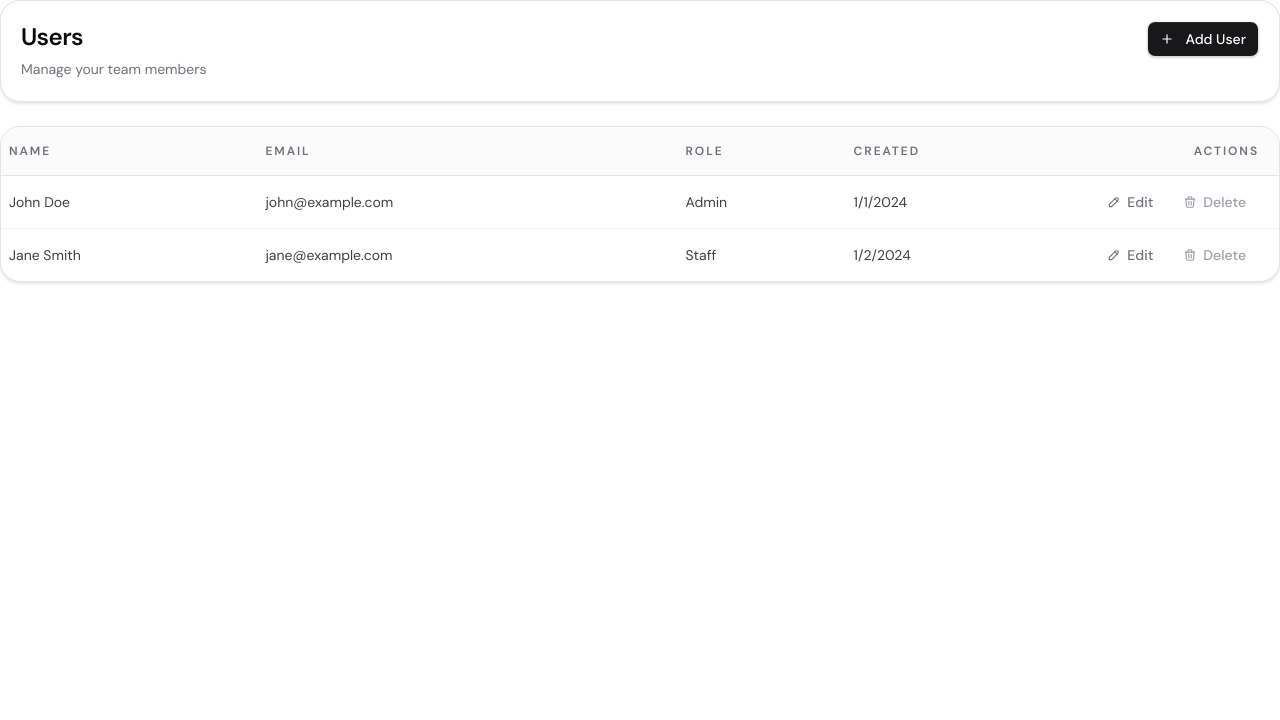
Test: UsersModule › opens edit dialog with user data pre-populated
The image size is (1280, 720).
# Safe: getAllByRole throws if empty, so index [0] is always defined
Click the button "Edit" in the row of "John Doe" at [1130, 202], box left=1094, top=186, right=1166, bottom=218
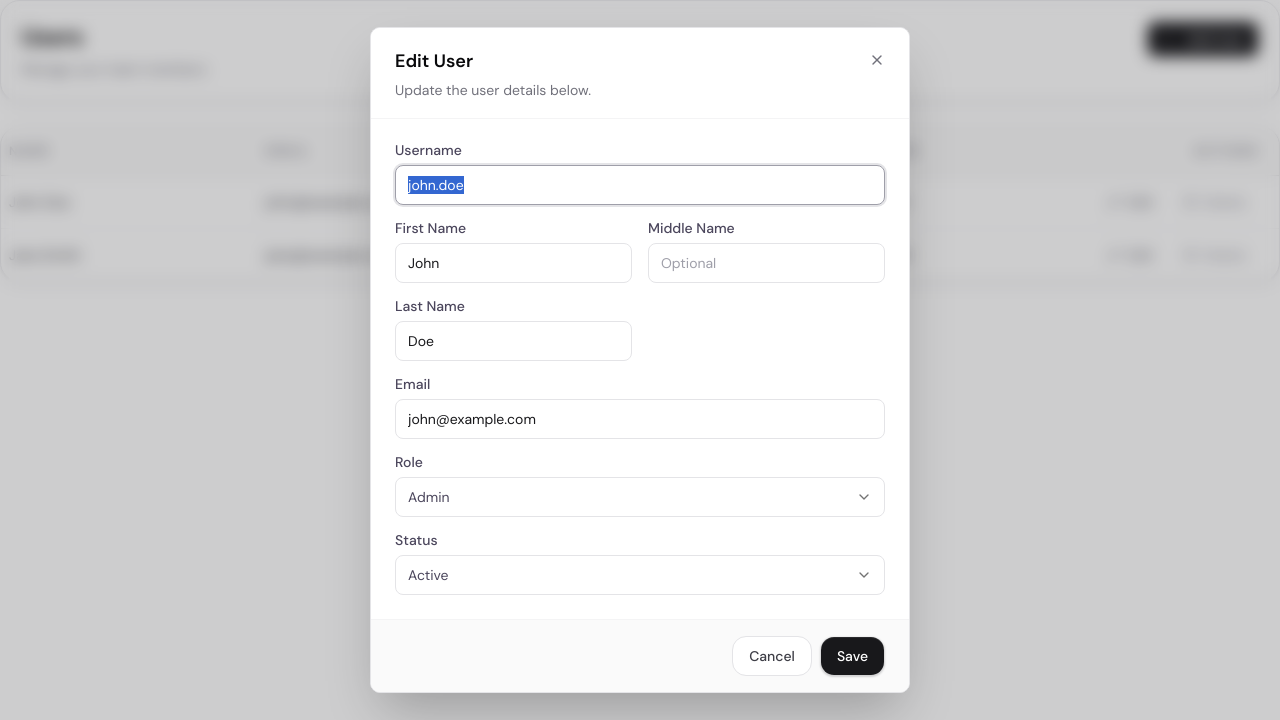
Now the dialog is shown, box left=370, top=27, right=910, bottom=693
Now the field showing "John" is shown, box left=395, top=243, right=632, bottom=283
